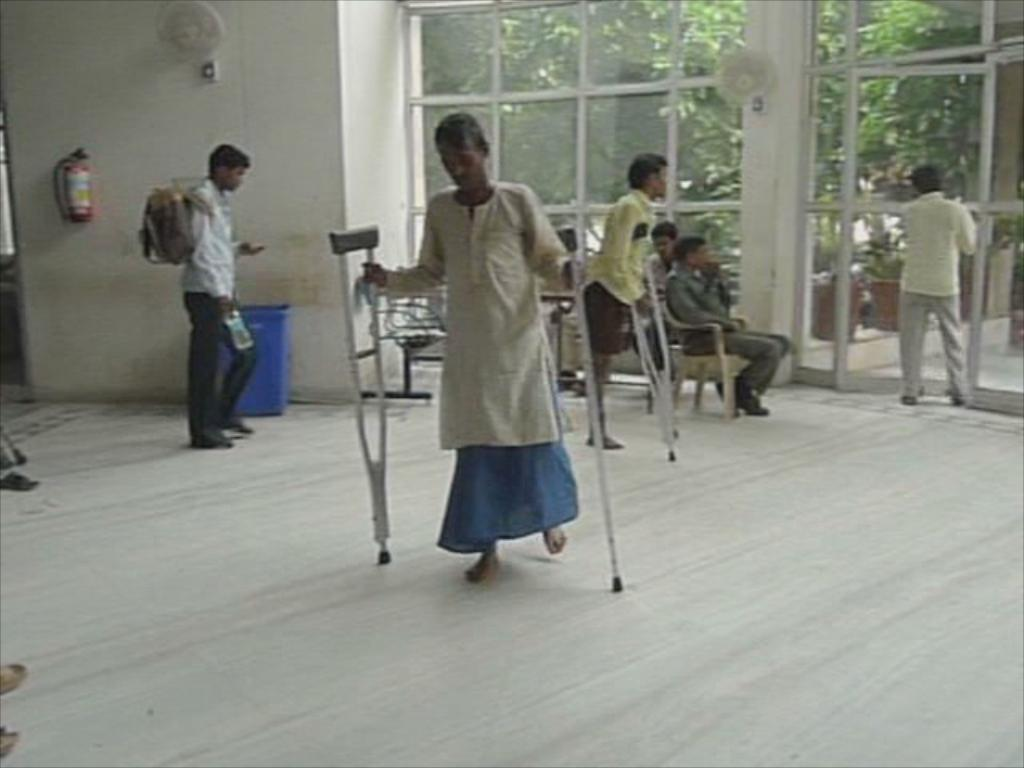crutches: (317, 105, 630, 601), (577, 147, 687, 469)
